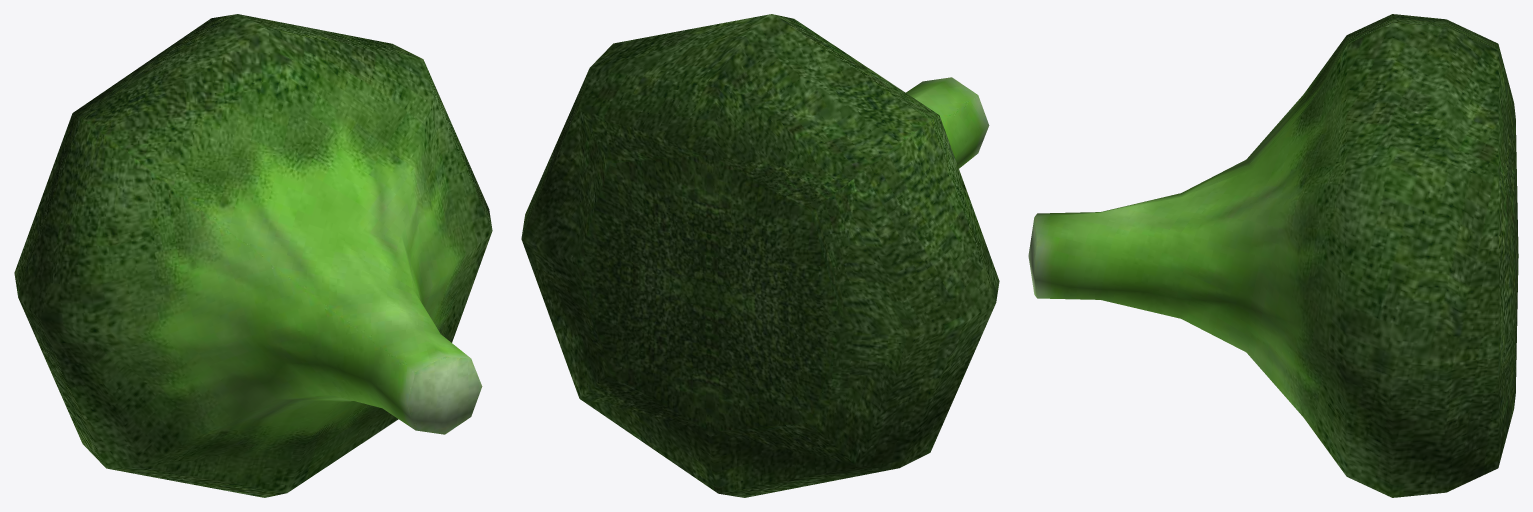
Rendered from brocoli.glb.
The picture shows the model from 3 angles, left to right: view 1: azimuth 30°, elevation 25°; view 2: azimuth 150°, elevation 25°; view 3: azimuth 270°, elevation 25°; orthographic projection.
Visible parts, largest first — view 1: brocoli2; view 2: brocoli2; view 3: brocoli2.
Part boxes in pixels (x1=…): brocoli2: x1=14, y1=14, x2=492, y2=497; brocoli2: x1=521, y1=14, x2=999, y2=497; brocoli2: x1=1028, y1=14, x2=1518, y2=497.
Size of the model in its own units: 0.2718 by 0.2711 by 0.2585.
1 material, 1 textured.
